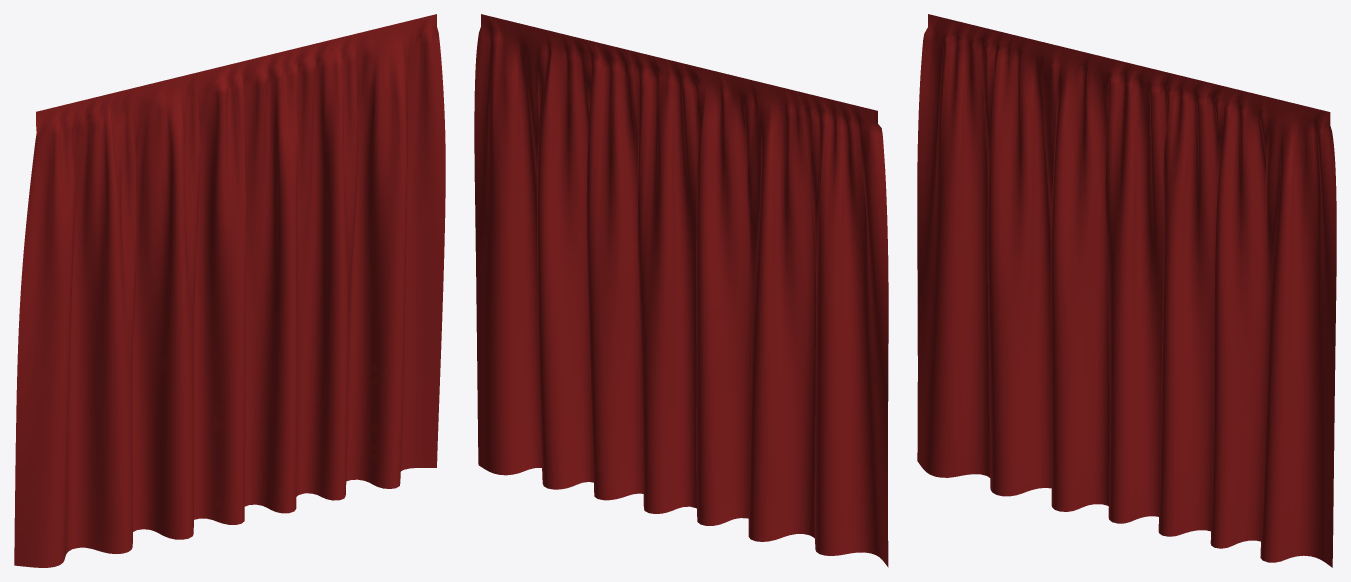
Rendered from curtain.glb.
3 views of the same model, side by side, from view 1: azimuth 30°, elevation 25°; view 2: azimuth 150°, elevation 25°; view 3: azimuth 330°, elevation 25° (orthographic).
Bounding box in the file's own units: 2.48 × 2.54 × 0.2217.
